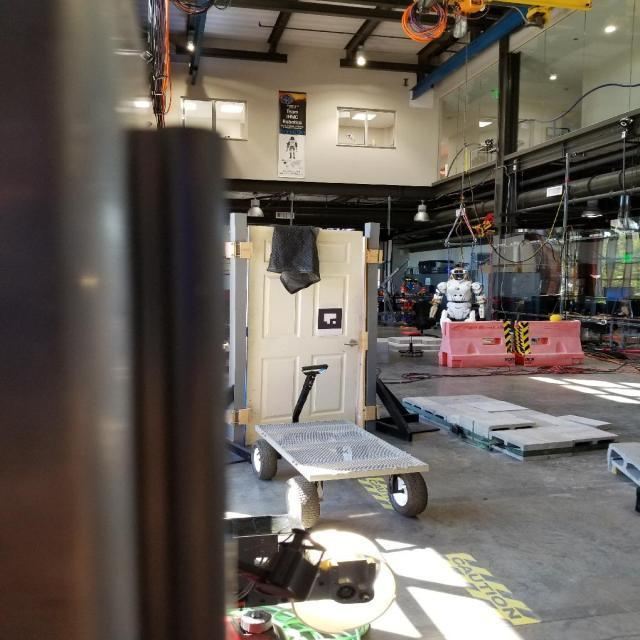door: (242, 222, 368, 449), (338, 338, 359, 348)
